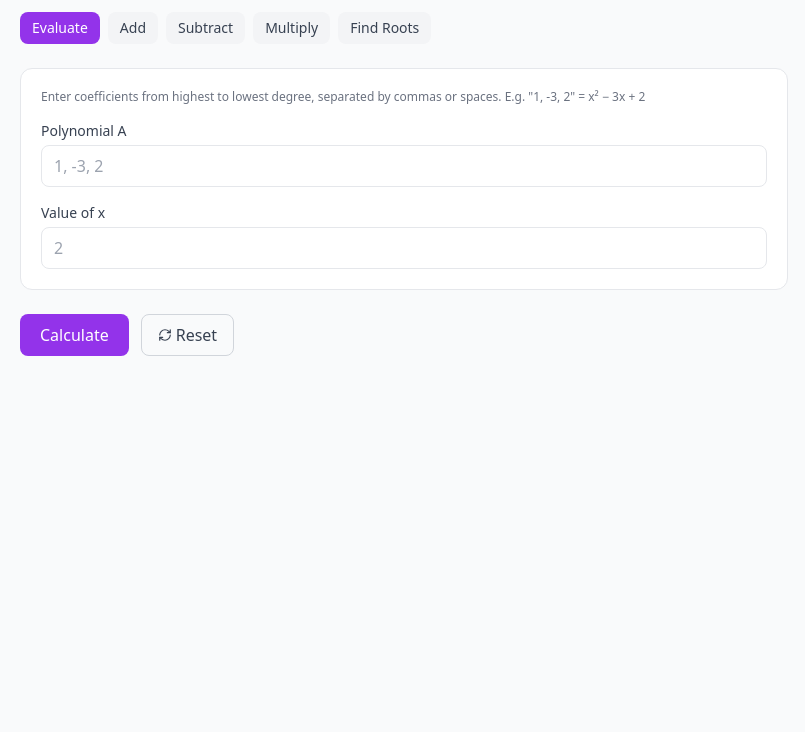
Test: PolynomialCalculator – functional › adds two polynomials
The image size is (805, 732).
Click the button "Add" at x=133, y=28, box 108,12 -> 158,44
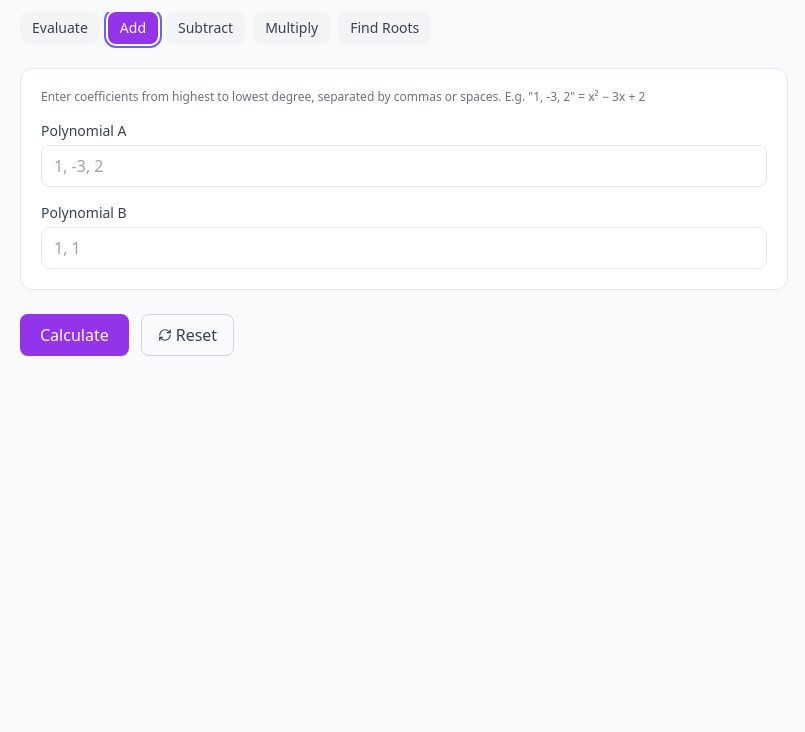
Type "1 2 3" into the field with placeholder "1, -3, 2" at x=404, y=166, box 41,145 -> 767,187
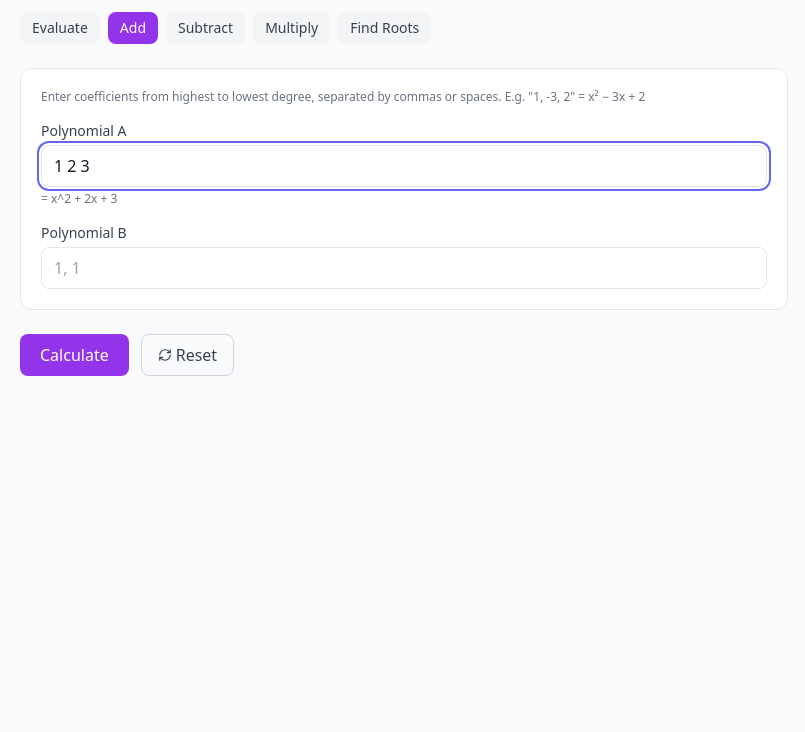
Type "3 2 1" into the field with placeholder "1, 1" at x=404, y=268, box 41,247 -> 767,289
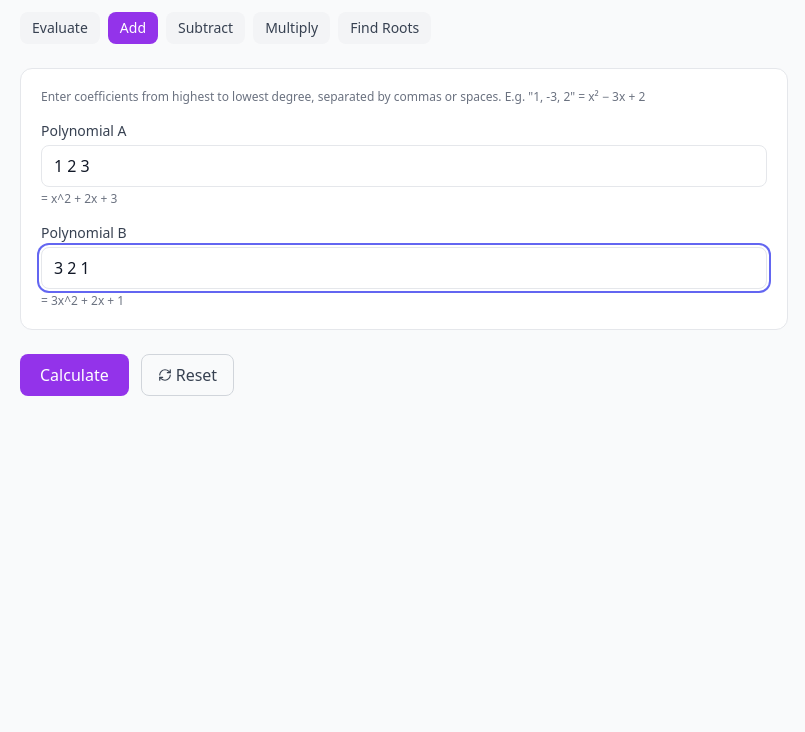
Click the button "Calculate" at x=74, y=375, box 20,354 -> 129,396
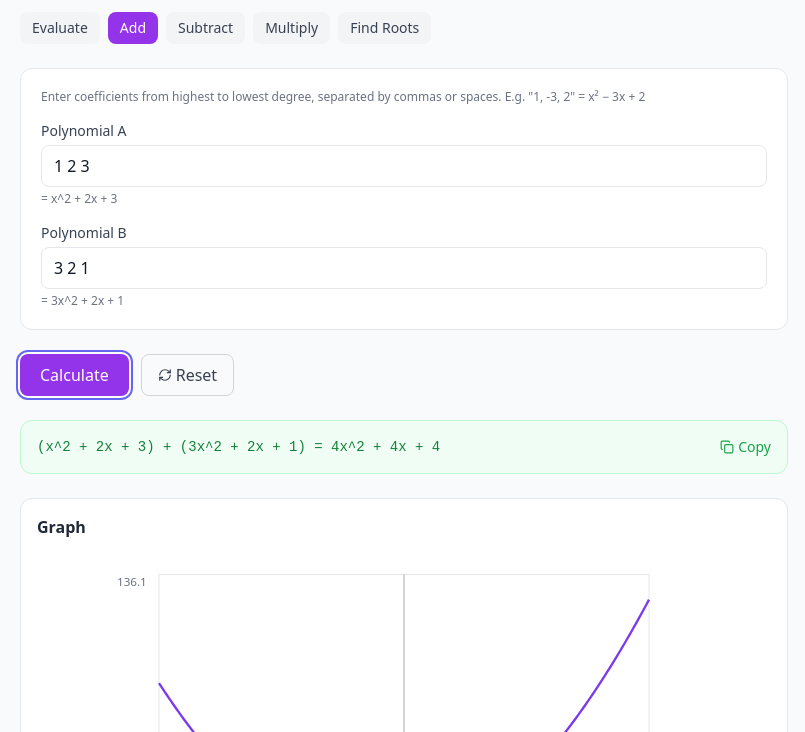
Check: the text "(x^2 + 2x + 3) + (3x^2 + 2x + 1) = 4x^2 + 4x + 4" is shown, box 37,437 -> 440,457
